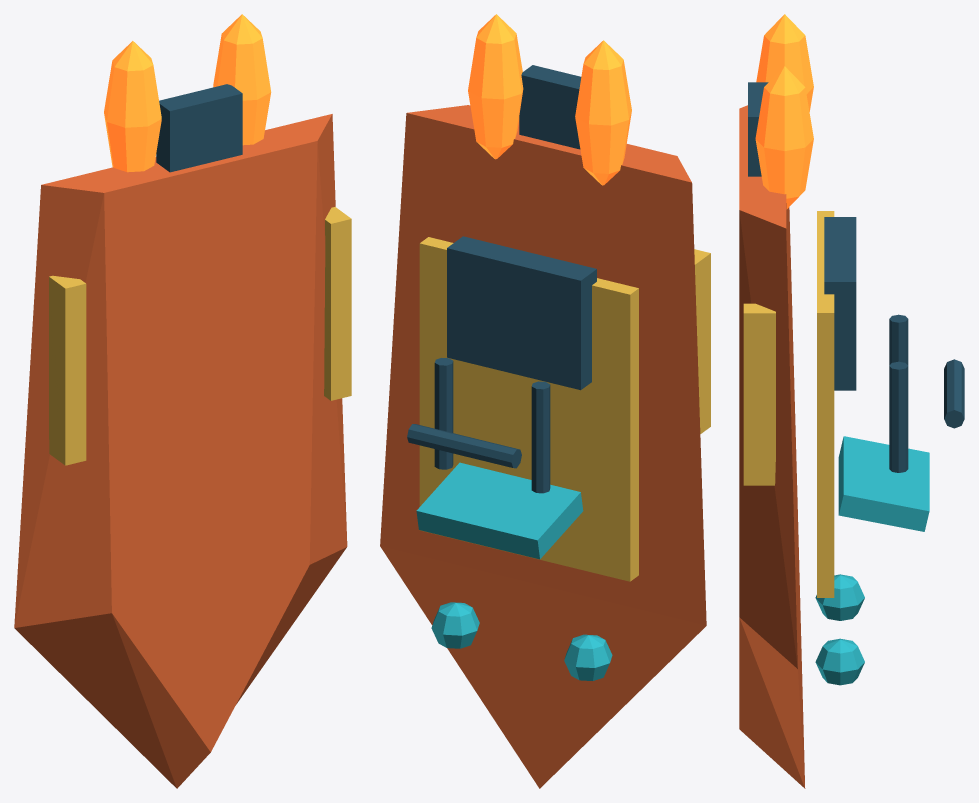
The model's file is wavebreak_boat.glb.
The picture shows the model from 3 angles, left to right: view 1: azimuth 30°, elevation 25°; view 2: azimuth 150°, elevation 25°; view 3: azimuth 270°, elevation 25°; orthographic projection. The views are drawn at different scales.
Parts seen in each view (by area): view 1: Boat_Hull, Boat_LeftSkid, Boat_EnginePod, Boat_Exhaust_L, Boat_RightSkid, Boat_Exhaust_R; view 2: Boat_Hull, Boat_Deck, Boat_Seat, Boat_Windshield, Boat_Exhaust_L, Boat_Exhaust_R, Boat_EnginePod, Boat_LeftSkid, Boat_Rollbar_Top, Boat_Rollbar_L, Boat_Rollbar_R, Boat_Lamp_R (+1 smaller); view 3: Boat_Hull, Boat_Windshield, Boat_Deck, Boat_RightSkid, Boat_Exhaust_R, Boat_Seat, Boat_Exhaust_L, Boat_Rollbar_R, Boat_Lamp_R, Boat_Lamp_L, Boat_Rollbar_Top, Boat_EnginePod (+1 smaller).
Part boxes in pixels (left/top/right/bottom): Boat_Hull: left=14, top=114, right=347, bottom=788; Boat_LeftSkid: left=49, top=275, right=86, bottom=465; Boat_EnginePod: left=156, top=84, right=242, bottom=172; Boat_Exhaust_L: left=104, top=41, right=161, bottom=172; Boat_RightSkid: left=324, top=207, right=351, bottom=400; Boat_Exhaust_R: left=213, top=14, right=271, bottom=145; Boat_Hull: left=380, top=105, right=706, bottom=788; Boat_Deck: left=419, top=237, right=638, bottom=581; Boat_Seat: left=447, top=236, right=596, bottom=390; Boat_Windshield: left=416, top=462, right=583, bottom=559; Boat_Exhaust_L: left=575, top=40, right=631, bottom=185; Boat_Exhaust_R: left=468, top=14, right=523, bottom=159; Boat_EnginePod: left=519, top=65, right=581, bottom=149; Boat_LeftSkid: left=694, top=249, right=710, bottom=433; Boat_Rollbar_Top: left=407, top=424, right=521, bottom=468; Boat_Rollbar_L: left=531, top=381, right=550, bottom=493; Boat_Rollbar_R: left=434, top=358, right=453, bottom=469; Boat_Lamp_R: left=431, top=602, right=479, bottom=648; Boat_Hull: left=739, top=105, right=805, bottom=788; Boat_Windshield: left=838, top=436, right=929, bottom=531; Boat_Deck: left=817, top=211, right=834, bottom=597; Boat_RightSkid: left=743, top=303, right=775, bottom=485; Boat_Exhaust_R: left=755, top=66, right=813, bottom=209; Boat_Seat: left=824, top=217, right=856, bottom=390; Boat_Exhaust_L: left=756, top=14, right=813, bottom=111; Boat_Rollbar_R: left=889, top=361, right=908, bottom=472; Boat_Lamp_R: left=815, top=638, right=864, bottom=685; Boat_Lamp_L: left=815, top=574, right=864, bottom=620; Boat_Rollbar_Top: left=944, top=359, right=964, bottom=428; Boat_EnginePod: left=748, top=82, right=768, bottom=176.
Size of the model in its own units: 2.56 by 5.65 by 1.54.
